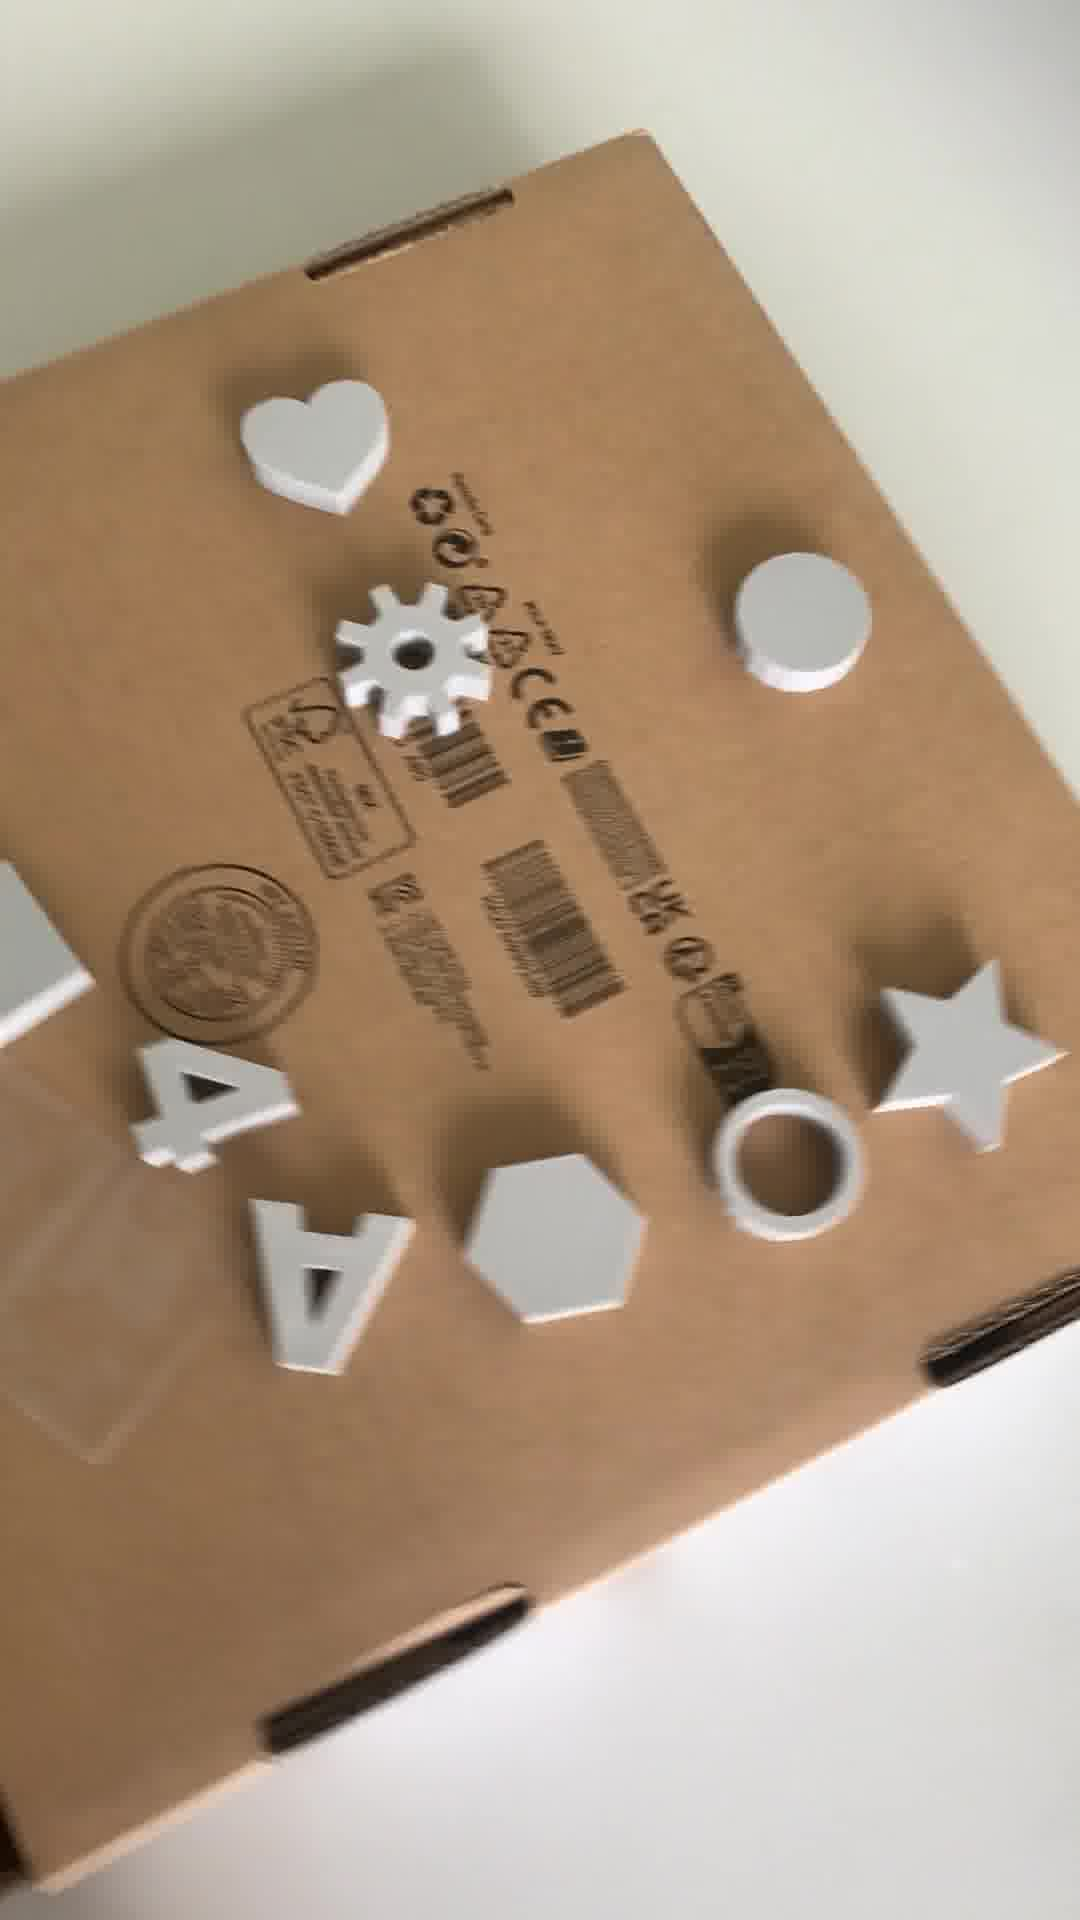Gray A-letter: (247, 1201, 411, 1387)
Gray circle: (733, 549, 878, 698)
Gray four: (117, 1044, 305, 1178)
Gray gear: (335, 583, 500, 738)
Gray heart: (237, 382, 400, 531)
Gray hexagon: (458, 1135, 651, 1336)
Gray ring: (702, 1081, 855, 1234)
Gray square: (1, 858, 104, 1085)
Gray star: (872, 963, 1056, 1150)
